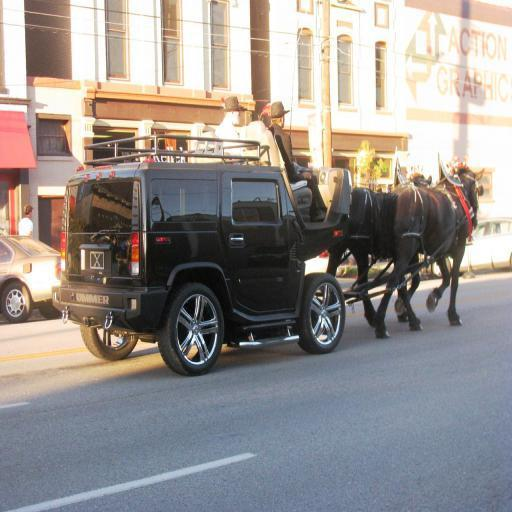horse: (372, 162, 484, 342), (324, 172, 432, 326)
